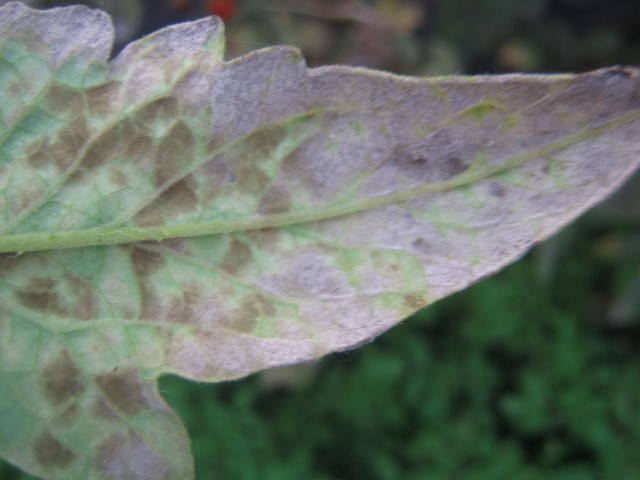negra: (52, 92, 204, 180), (83, 352, 162, 428), (230, 135, 292, 216), (26, 363, 94, 428), (18, 278, 107, 324), (129, 180, 203, 224), (126, 250, 166, 326), (218, 287, 278, 337), (26, 423, 78, 475), (212, 235, 268, 274)
